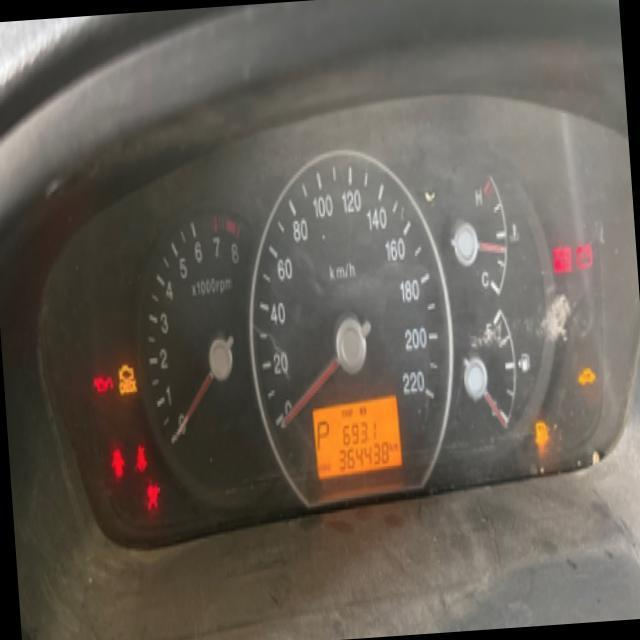Doors: (109, 444, 126, 484)
security: (576, 364, 599, 391)
